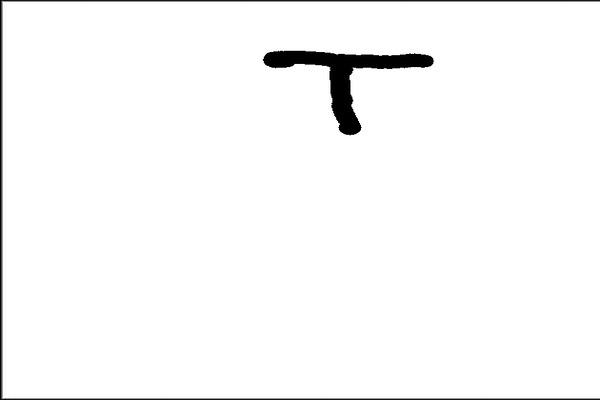T: (259, 37, 439, 142)
